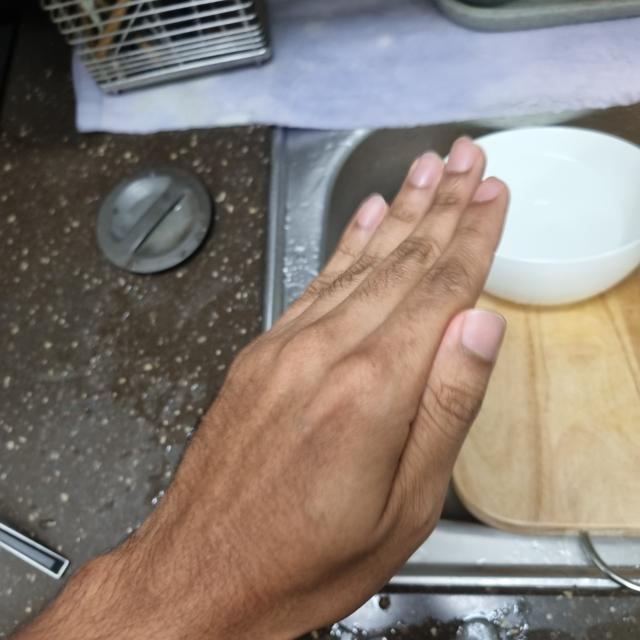Paper: (151, 142, 514, 638)
